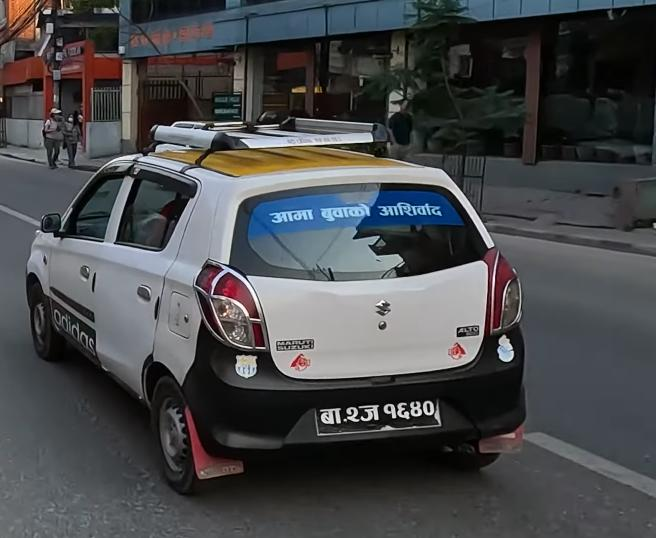taxi: (21, 100, 538, 491)
